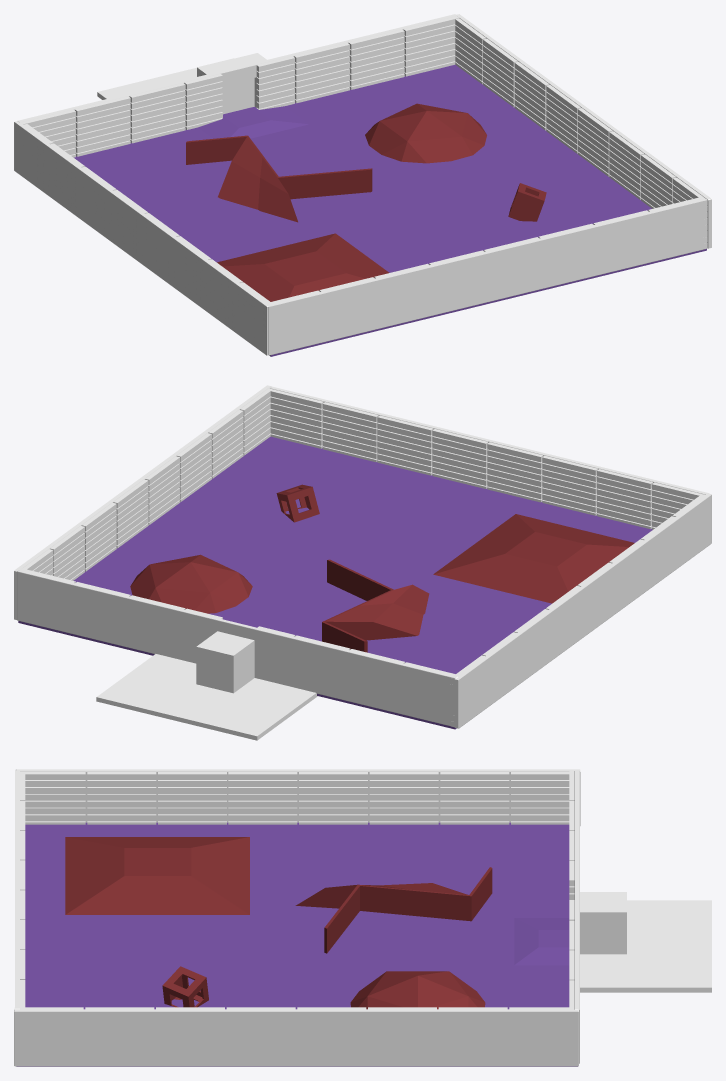
File: level 2.glb
3 renders of one model, top to bottom at view 1: azimuth 30°, elevation 25°; view 2: azimuth 150°, elevation 25°; view 3: azimuth 270°, elevation 25°, orthographic. The views are drawn at different scales.
Parts seen in each view (by area): view 1: Cube.005, Cube, Cube.003, Icosphere, Cube.006, Cube.002; view 2: Cube.005, Cube.003, Cube, Icosphere, Cube.006, Cube.002; view 3: Cube.005, Cube.003, Cube, Icosphere, Cube.006, Cube.002.
Boxes of the visible parts, <box> form: Cube.005: <box>14,14,711,356</box>; Cube: <box>186,135,372,222</box>; Cube.003: <box>217,233,388,301</box>; Icosphere: <box>365,103,486,163</box>; Cube.006: <box>197,58,254,114</box>; Cube.002: <box>508,183,546,221</box>; Cube.005: <box>14,385,711,740</box>; Cube.003: <box>433,514,634,603</box>; Cube: <box>322,559,429,652</box>; Icosphere: <box>130,554,252,613</box>; Cube.006: <box>196,631,254,693</box>; Cube.002: <box>276,484,319,522</box>; Cube.005: <box>14,769,711,1066</box>; Cube.003: <box>65,837,249,914</box>; Cube: <box>295,867,492,953</box>; Icosphere: <box>350,971,485,1009</box>; Cube.006: <box>580,892,626,954</box>; Cube.002: <box>162,966,208,1007</box>.
Bounding box in the file's own units: 81.58 × 11.31 × 99.36.
